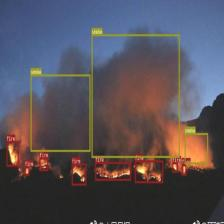fire: (95, 162, 131, 180), (134, 160, 162, 183), (72, 163, 86, 186), (7, 141, 18, 166), (40, 158, 48, 170), (24, 166, 30, 175), (172, 162, 177, 172), (182, 164, 186, 175)
smoke: (92, 33, 180, 158), (30, 74, 90, 152), (184, 132, 208, 164)
